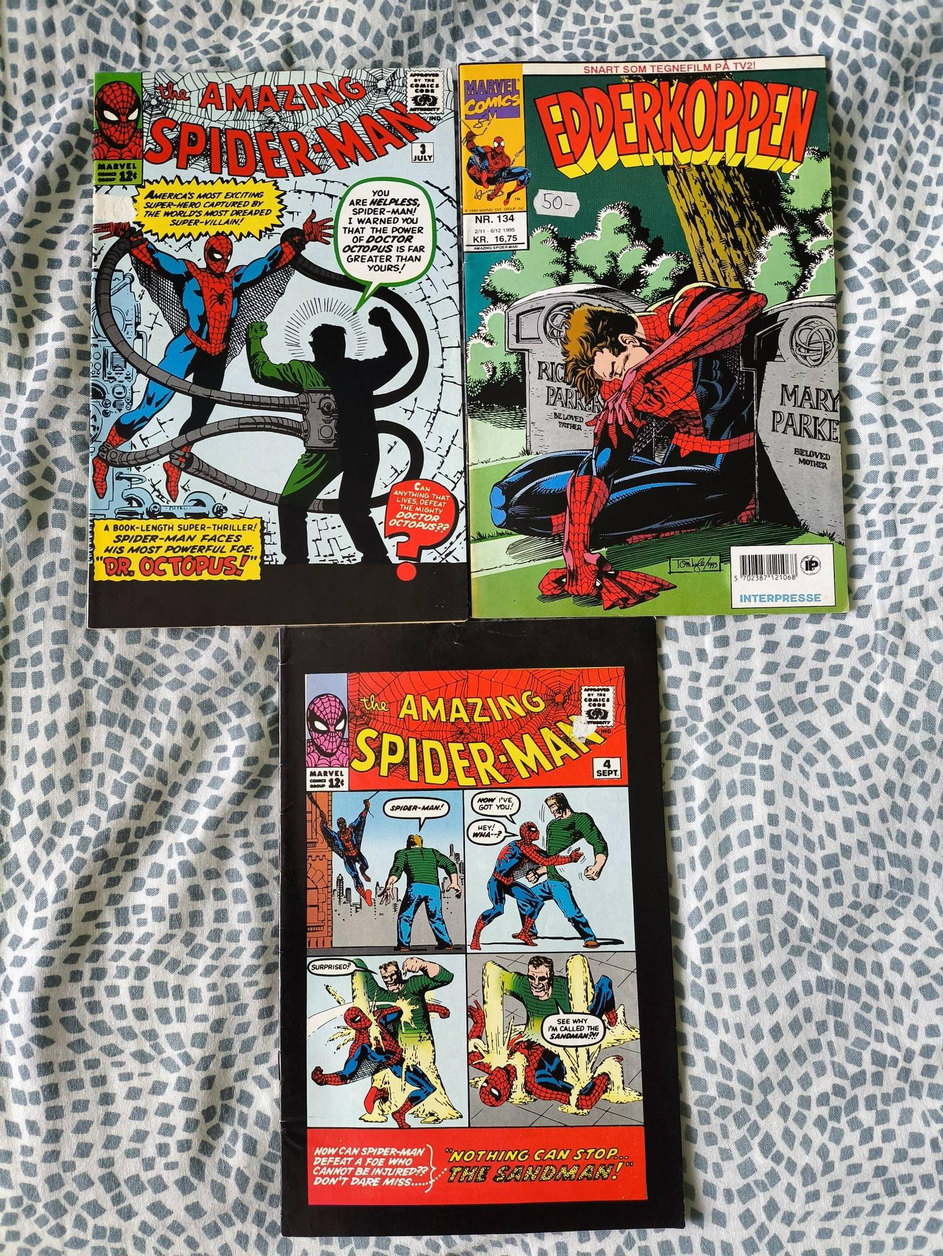comic: (275, 618, 683, 1235), (457, 54, 847, 620), (84, 67, 467, 626)
